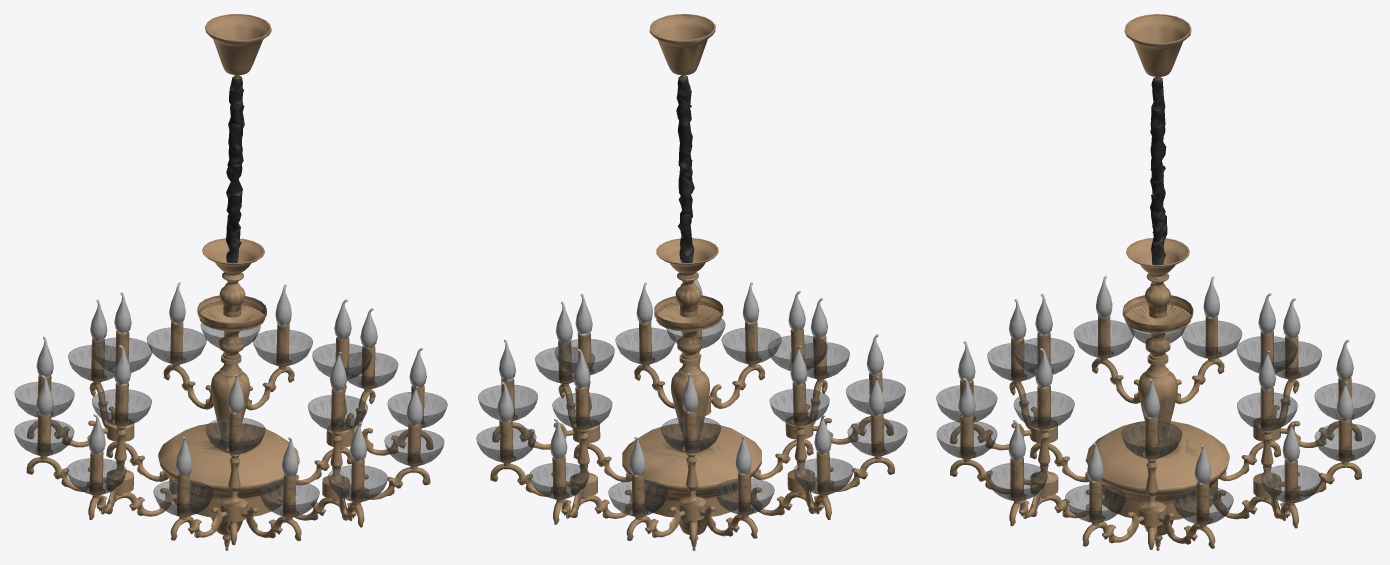
The model's file is chandelier_03.glb.
3 renders of one model, left to right at view 1: azimuth 30°, elevation 25°; view 2: azimuth 150°, elevation 25°; view 3: azimuth 270°, elevation 25°, orthographic.
Parts seen in each view (by area): view 1: Chandelier_03; view 2: Chandelier_03; view 3: Chandelier_03.
Part boxes in pixels (<box>): Chandelier_03: <box>14,14,447,550</box>; Chandelier_03: <box>476,14,907,550</box>; Chandelier_03: <box>936,14,1375,550</box>.
Size of the model in its own units: 0.7802 by 1.04 by 0.7855.
Materials: 2 (2 with a texture image).
